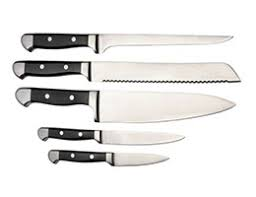kuchillu: (17, 85, 242, 125), (46, 147, 173, 173)
